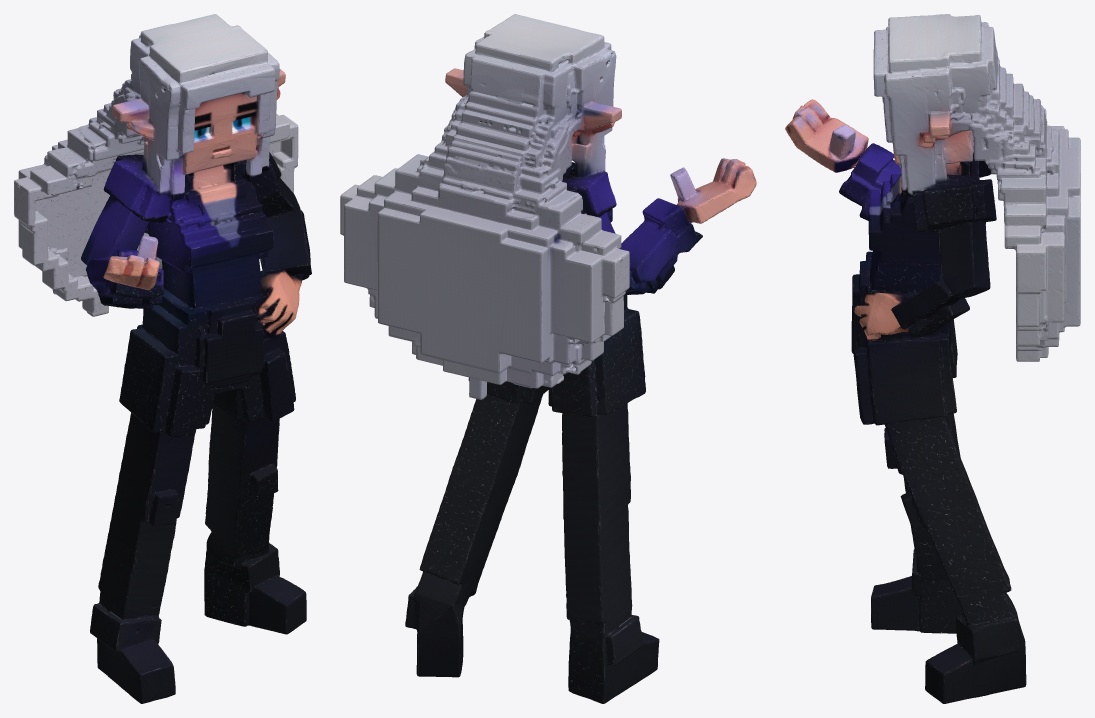
Rendered from fig_dark_elf_pixel.glb.
3 views of the same model, side by side, from view 1: azimuth 30°, elevation 25°; view 2: azimuth 150°, elevation 25°; view 3: azimuth 270°, elevation 25° (orthographic).
Parts seen in each view (by area): view 1: geometry_0; view 2: geometry_0; view 3: geometry_0.
Part boxes in pixels (x1,y1,x2,y2): geometry_0: [14, 14, 311, 703]; geometry_0: [340, 14, 756, 703]; geometry_0: [785, 14, 1080, 703].
Bounding box in the file's own units: 0.4934 × 1 × 0.4264.
Materials: 1 (1 with a texture image).
